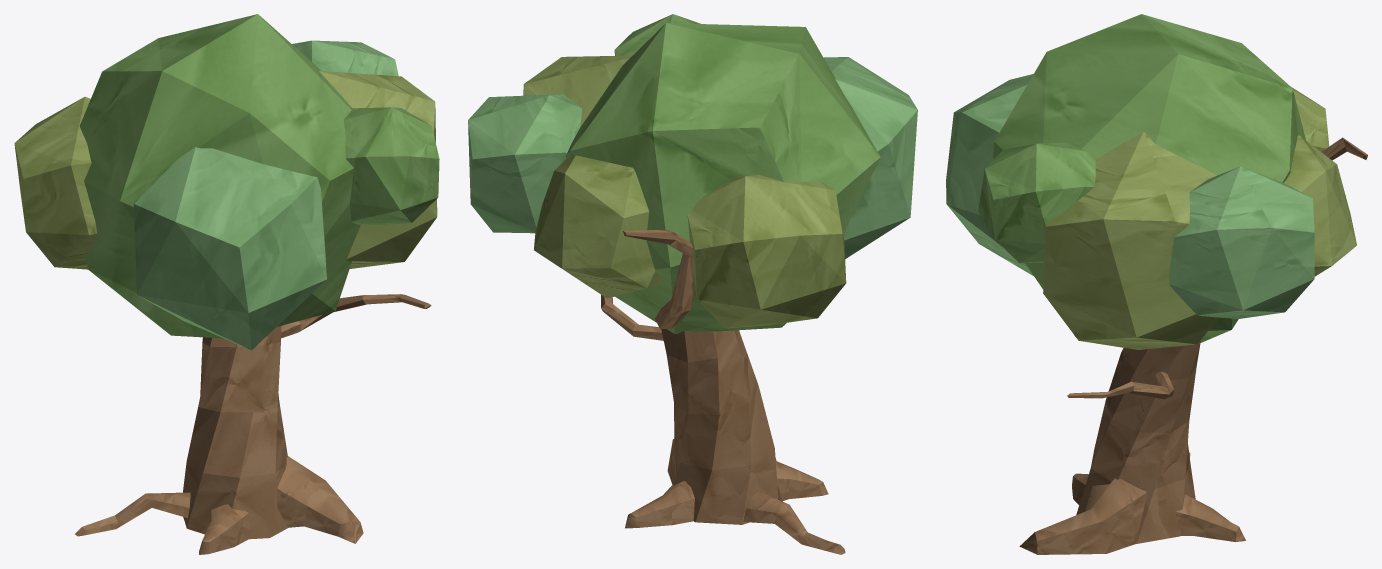
Rendered from chunkyTree.FBX.
The picture shows the model from 3 angles, left to right: view 1: azimuth 30°, elevation 25°; view 2: azimuth 150°, elevation 25°; view 3: azimuth 270°, elevation 25°; orthographic projection.
Parts seen in each view (by area): view 1: Cylinder007; view 2: Cylinder007; view 3: Cylinder007.
Part boxes in pixels (x1,y1,x2,y2): Cylinder007: (14,14,439,554); Cylinder007: (468,14,917,554); Cylinder007: (946,14,1367,554).
Size of the model in its own units: 261 by 327 by 257.
Materials: 4 (4 with a texture image).
